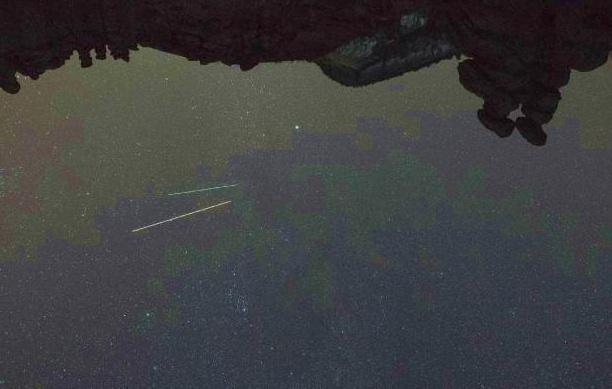meteorite: (130, 202, 237, 227), (147, 180, 240, 199)
